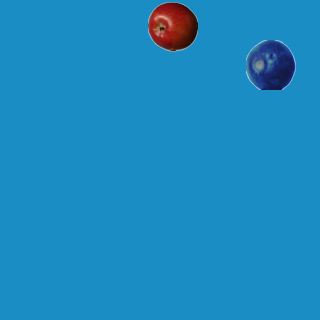Apple Braeburn: (147, 1, 197, 51)
Huckleberry: (245, 39, 295, 89)
